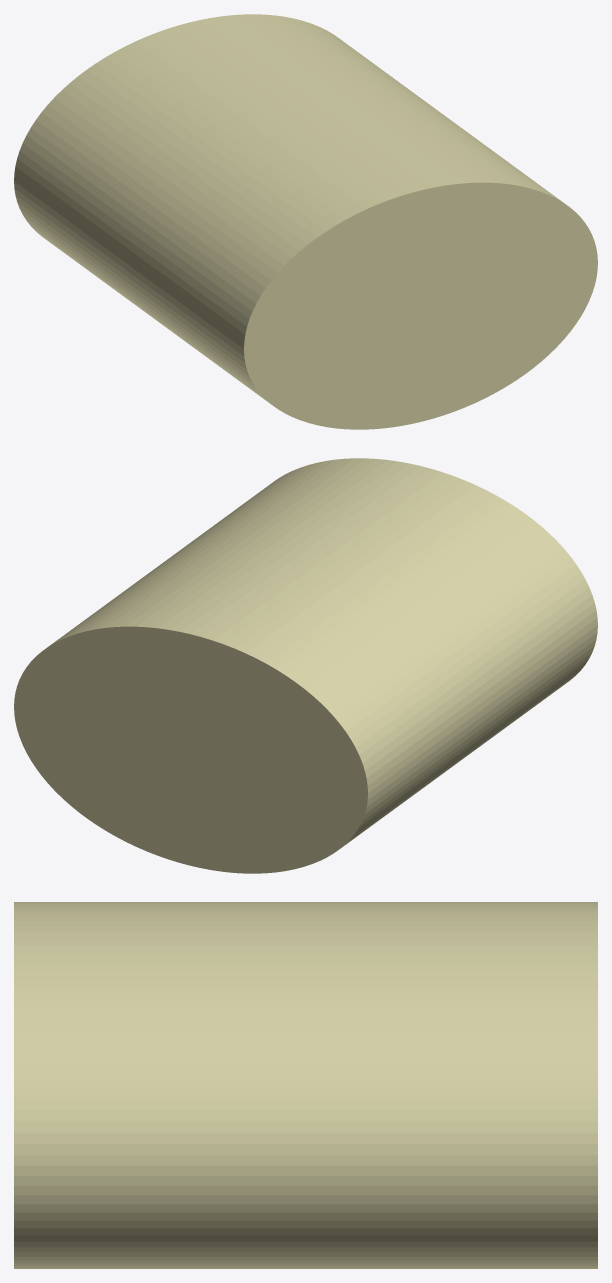
The model's file is elliptical_cylinder.glb.
The picture shows the model from 3 angles, top to bottom: view 1: azimuth 30°, elevation 25°; view 2: azimuth 150°, elevation 25°; view 3: azimuth 270°, elevation 25°; orthographic projection. The views are drawn at different scales.
Parts seen in each view (by area): view 1: geometry_0; view 2: geometry_0; view 3: geometry_0.
Part boxes in pixels (left/top/right/bottom): geometry_0: left=14, top=14, right=597, bottom=429; geometry_0: left=14, top=458, right=597, bottom=873; geometry_0: left=14, top=902, right=597, bottom=1268.
Bounding box in the file's own units: 16 × 10 × 18.
